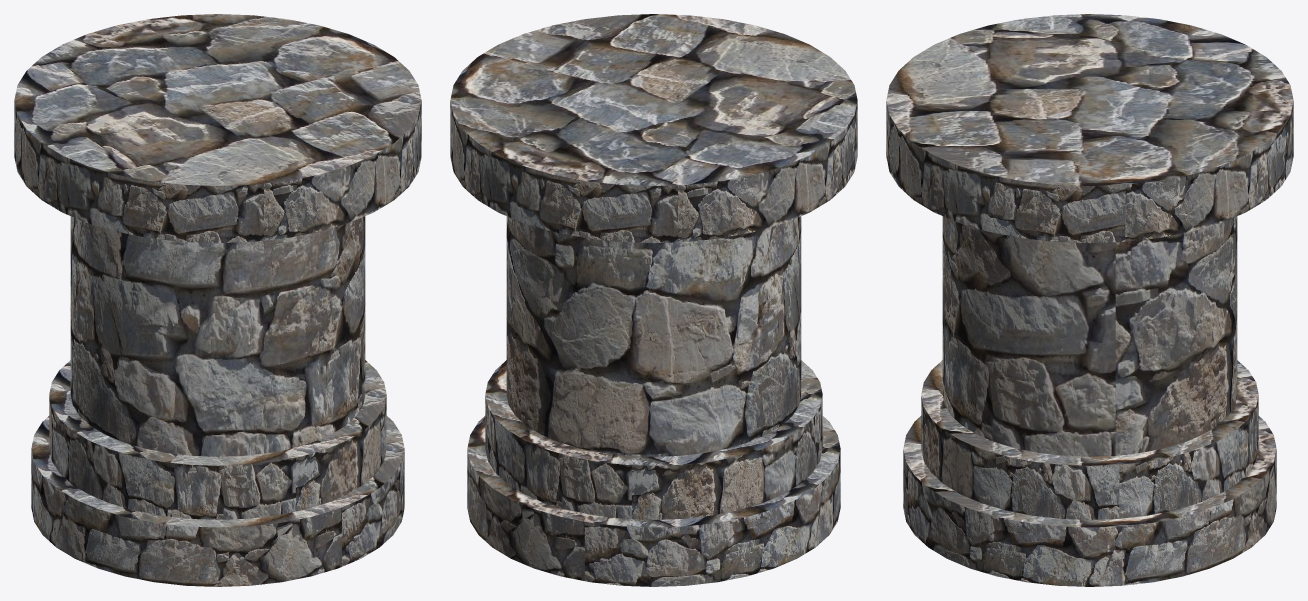
File: table.fbx
The picture shows the model from 3 angles, left to right: view 1: azimuth 30°, elevation 25°; view 2: azimuth 150°, elevation 25°; view 3: azimuth 270°, elevation 25°; orthographic projection.
Visible parts, largest first — view 1: pCylinder4, pCylinder3, pCylinder1, pCylinder2; view 2: pCylinder4, pCylinder3, pCylinder1, pCylinder2; view 3: pCylinder4, pCylinder3, pCylinder1, pCylinder2.
Boxes of the visible parts, box(x1,y1,x2,y2) form: pCylinder4: box(14, 14, 421, 243); pCylinder3: box(70, 216, 365, 456); pCylinder1: box(31, 416, 404, 586); pCylinder2: box(49, 360, 386, 519); pCylinder4: box(450, 14, 857, 243); pCylinder3: box(506, 216, 801, 456); pCylinder1: box(467, 416, 840, 586); pCylinder2: box(485, 360, 822, 519); pCylinder4: box(886, 14, 1293, 243); pCylinder3: box(942, 216, 1237, 456); pCylinder1: box(903, 416, 1276, 586); pCylinder2: box(921, 360, 1258, 519).
Bounding box in the file's own units: 9.92 × 10.97 × 9.92.
